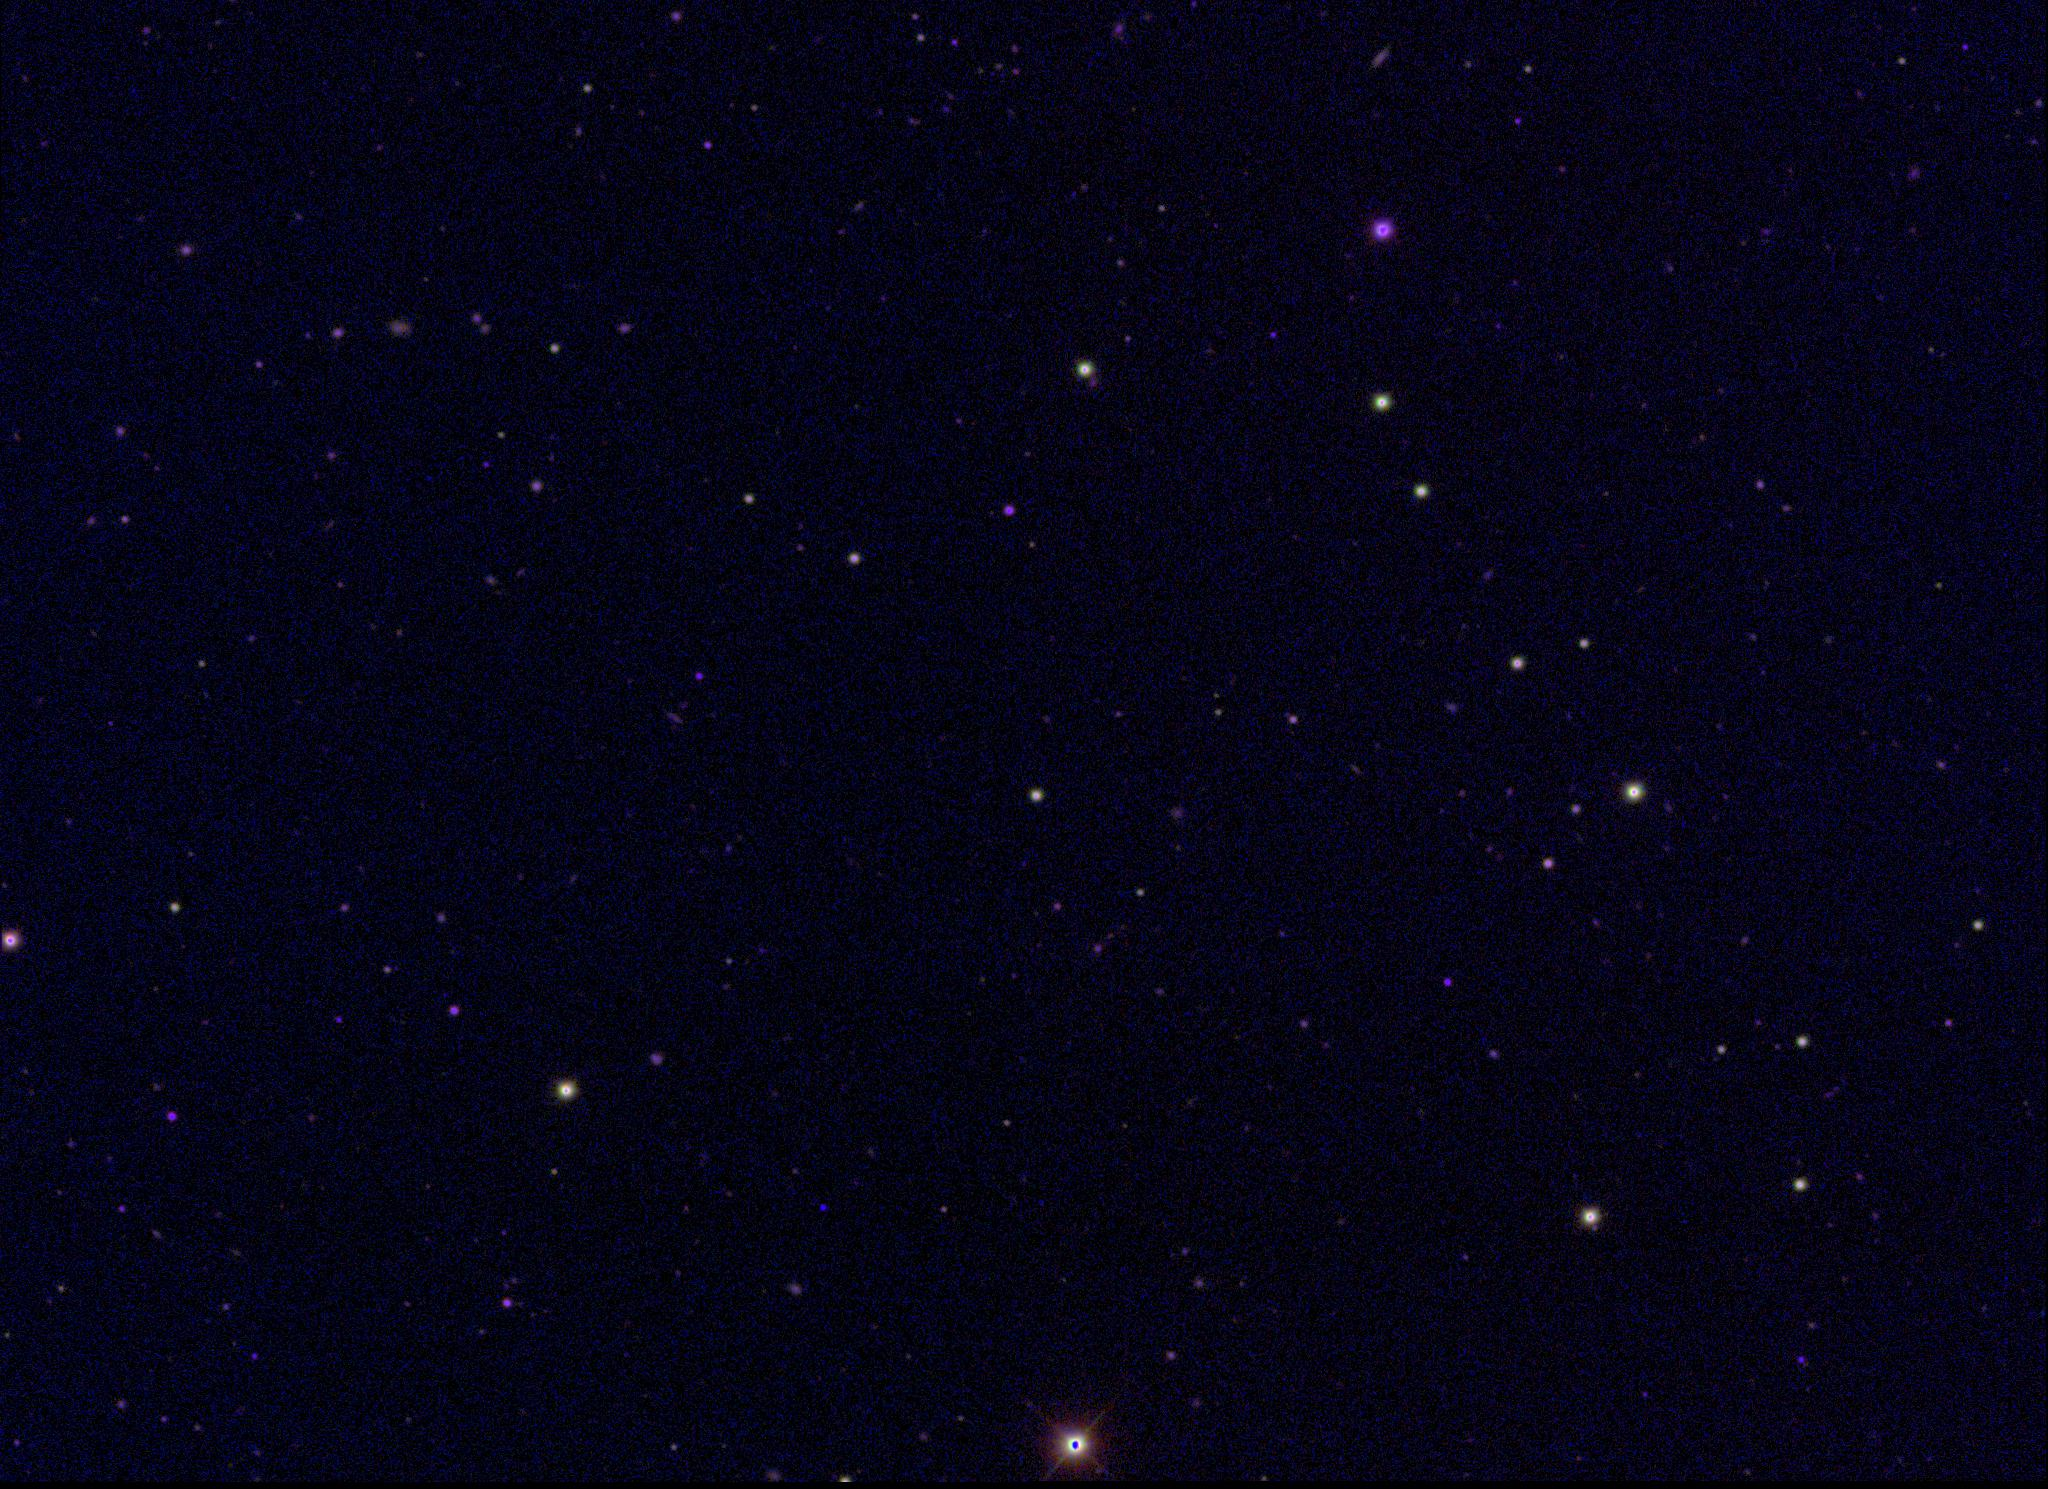L: (817, 1199, 832, 1214)
